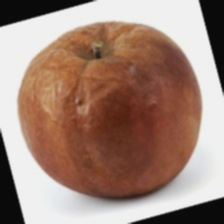apple: (0, 0, 200, 195)
